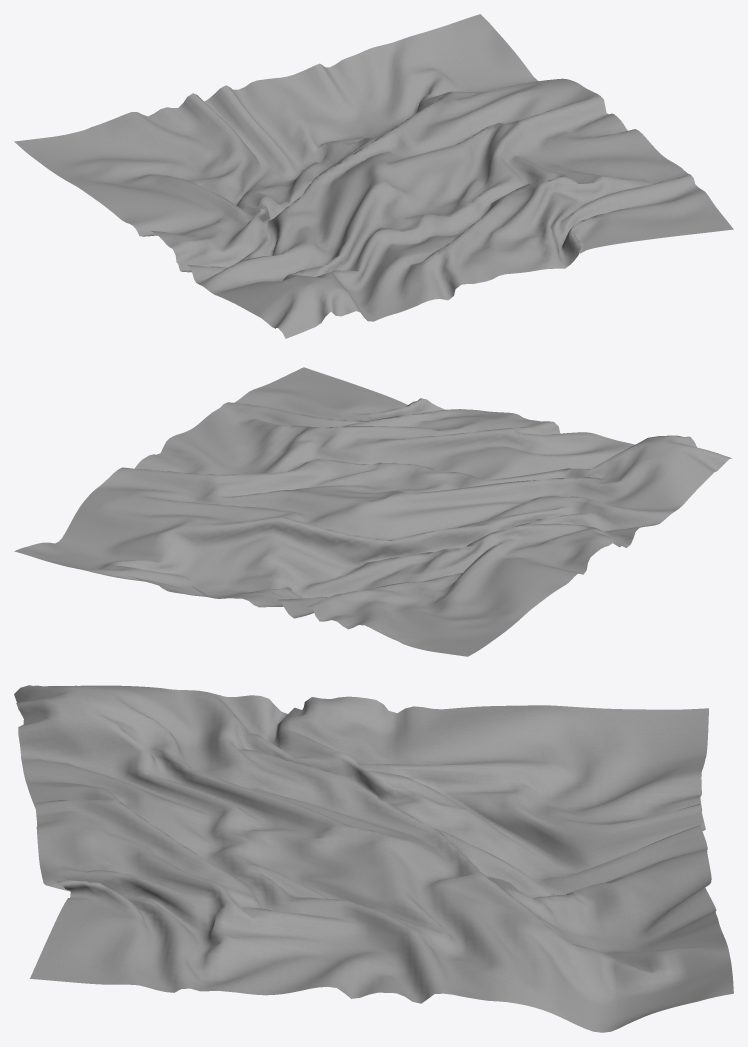
File: white.glb
The picture shows the model from 3 angles, top to bottom: view 1: azimuth 30°, elevation 25°; view 2: azimuth 150°, elevation 25°; view 3: azimuth 270°, elevation 25°; orthographic projection. The views are drawn at different scales.
Parts seen in each view (by area): view 1: Plane001; view 2: Plane001; view 3: Plane001.
Part boxes in pixels (x1,y1,x2,y2): Plane001: [14, 14, 733, 338]; Plane001: [14, 367, 731, 656]; Plane001: [14, 685, 733, 1032].
Bounding box in the file's own units: 243 × 34.12 × 244.
Materials: 1 (1 with a texture image).
